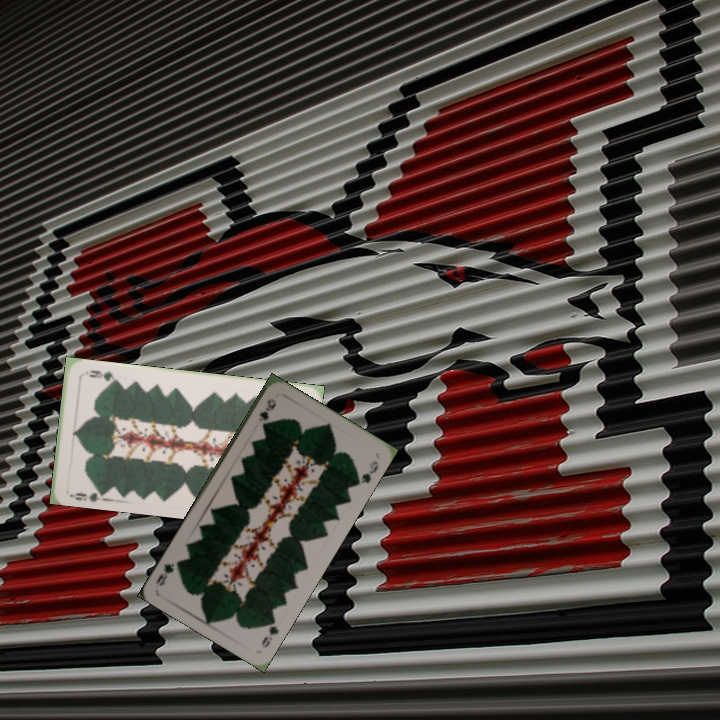G9: (257, 613, 282, 651), (66, 485, 106, 504), (255, 394, 279, 424)
